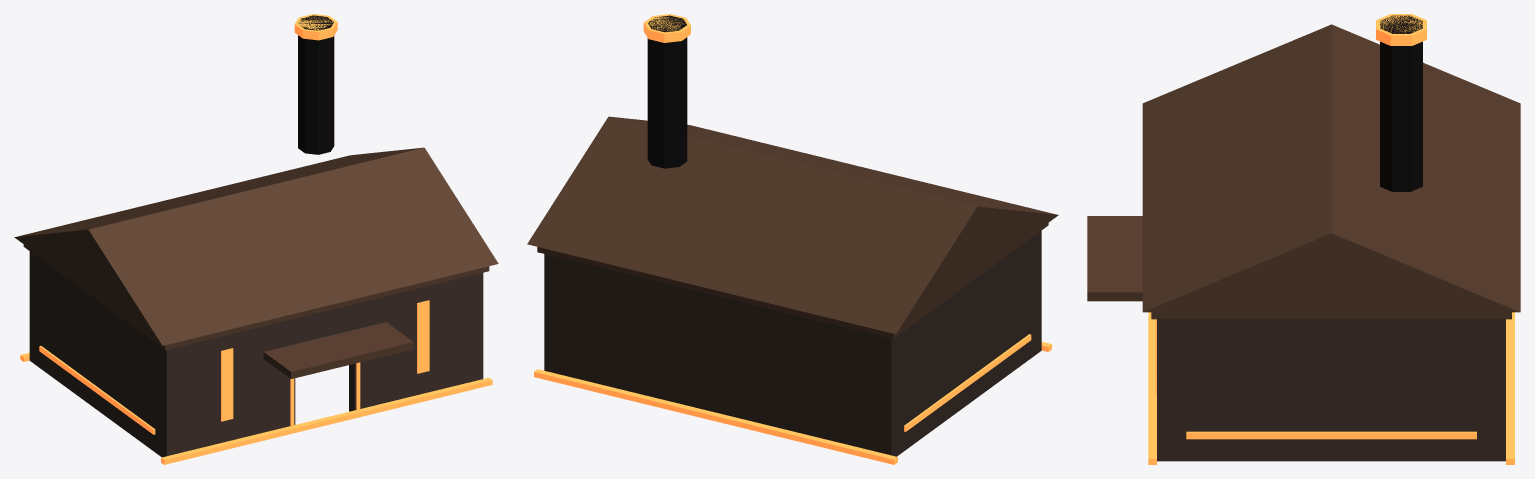
File: shaddai_dist_volcano_b3_v01.glb
3 views of the same model, side by side, from view 1: azimuth 30°, elevation 25°; view 2: azimuth 150°, elevation 25°; view 3: azimuth 270°, elevation 25° (orthographic). The views are drawn at different scales.
Parts seen in each view (by area): view 1: shaddai_dist_volcano_b3; view 2: shaddai_dist_volcano_b3; view 3: shaddai_dist_volcano_b3.
Part boxes in pixels (x1,y1,x2,y2): shaddai_dist_volcano_b3: [14, 14, 498, 464]; shaddai_dist_volcano_b3: [527, 14, 1058, 464]; shaddai_dist_volcano_b3: [1087, 14, 1520, 464].
Size of the model in its own units: 17 by 14.88 by 14.9.
